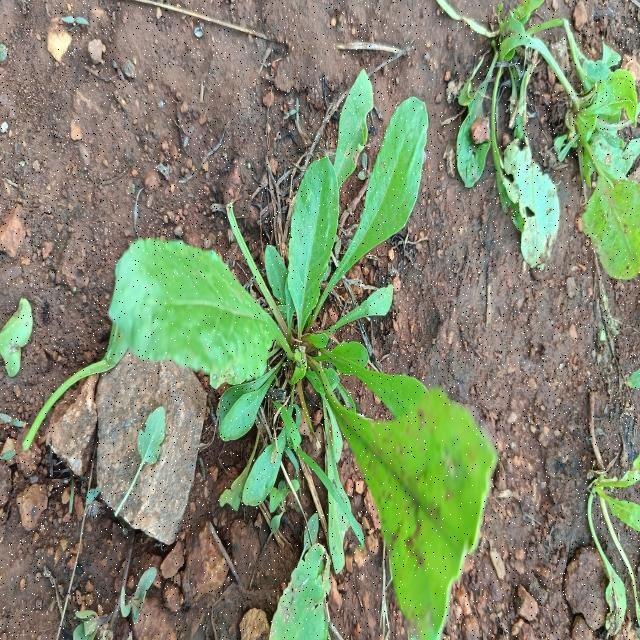leaves: (281, 326, 530, 634), (109, 223, 311, 427), (316, 90, 441, 367), (268, 127, 341, 365), (323, 60, 376, 293), (571, 122, 640, 295)
